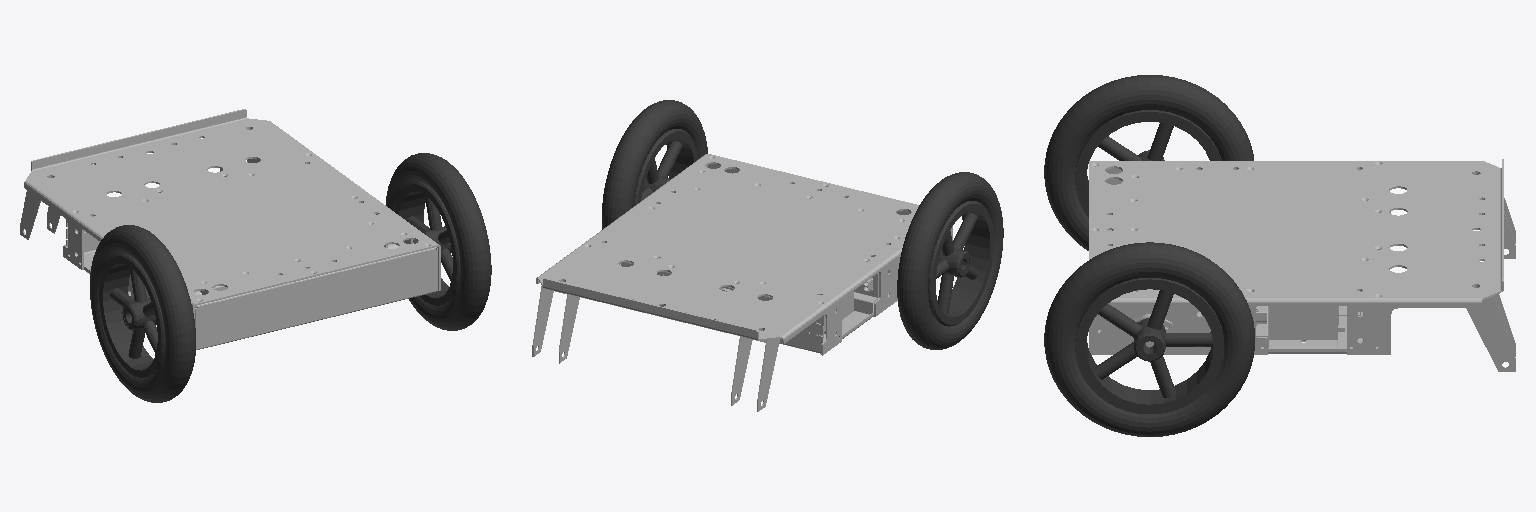
The robot description file, URDF, robot "dpr4_description":
<robot
  name="dpr4_description">
  <link
    name="base_link">
    <inertial>
      <origin
        xyz="0 0.23146 0.14798"
        rpy="0 0 0" />
      <mass
        value="12.0" />
      <inertia
        ixx="0.36685543"
        ixy="-0.00104218"
        ixz="-0.00036965"
        iyy="0.13334723"
        iyz="0.13386521"
        izz="0.35413958" />
    </inertial>
    <visual>
      <origin
        xyz="0 0 0"
        rpy="0 0 0" />
      <geometry>
        <mesh
          filename="package://dpr4_description/meshes/base_link.stl" />
      </geometry>
      <material
        name="">
        <color
          rgba="0.752941176470588 0.752941176470588 0.752941176470588 1" />
      </material>
    </visual>
    <collision>
      <origin
        xyz="0 0 0"
        rpy="0 0 0" />
      <geometry>
        <mesh
          filename="package://dpr4_description/meshes/base_link.stl" />
      </geometry>
    </collision>
  </link>
  <link
    name="AandrijfwielLinks">
    <inertial>
      <origin
        xyz="0 0 0"
        rpy="0 0 0" />
      <mass
        value="1.98850951394841" />
      <inertia
        ixx="0.0254040000000000"
        ixy="0.0000000000000000"
        ixz="0.0000000000000000"
        iyy="0.0130220000000000"
        iyz="0.0000000000000000"
        izz="0.0130220000000000" />
    </inertial>
    <visual>
      <origin
        xyz="0 0 0"
        rpy="0 0 0" />
      <geometry>
        <mesh
          filename="package://dpr4_description/meshes/Aandrijfwiel.stl" />
      </geometry>
      <material
        name="">
        <color
          rgba="0.294117647058824 0.294117647058824 0.294117647058824 1" />
      </material>
    </visual>
    <collision>
      <origin
        xyz="0 0 0"
        rpy="0 0 0" />
      <geometry>
        <mesh
          filename="package://dpr4_description/meshes/Aandrijfwiel.stl" />
      </geometry>
    </collision>
  </link>
  <joint
    name="AandrijfwielJointLinks"
    type="continuous">
    <origin
      xyz="-0.272 0.084 0.145"
      rpy="0 0 0" />
    <parent
      link="base_link" />
    <child
      link="AandrijfwielLinks" />
    <axis
      xyz="-1 0 0" />
  </joint>
  <link
    name="AandrijfwielRechts">
   <inertial>
      <origin
        xyz="0 0 0"
        rpy="0 0 0" />
      <mass
        value="1.98850951394841" />
      <inertia
        ixx="0.0254040000000000"
        ixy="0.0000000000000000"
        ixz="0.0000000000000000"
        iyy="0.0130220000000000"
        iyz="0.0000000000000000"
        izz="0.0130220000000000" />
    </inertial>
    <visual>
      <origin
        xyz="0 0 0"
        rpy="0 0 0" />
      <geometry>
        <mesh
          filename="package://dpr4_description/meshes/Aandrijfwiel.stl" />
      </geometry>
      <material
        name="">
        <color
          rgba="0.294117647058824 0.294117647058824 0.294117647058824 1" />
      </material>
    </visual>
    <collision>
      <origin
        xyz="0 0 0"
        rpy="0 0 0" />
      <geometry>
        <mesh
          filename="package://dpr4_description/meshes/Aandrijfwiel.stl" />
      </geometry>
    </collision>
  </link>
  <joint
    name="AandrijfwielJointRechts"
    type="continuous">
    <origin
      xyz="0.272 0.084 0.145"
      rpy="0 0 0" />
    <parent
      link="base_link" />
    <child
      link="AandrijfwielRechts" />
    <axis
      xyz="-1 0 0" />
  </joint>
  <link
    name="PassiefLinkLinks">
    <inertial>
      <origin
        xyz="0 0 0"
        rpy="0 0 0" />
      <mass
        value="0.027578120885064" />
      <inertia
        ixx="0.0000770000000000"
        ixy="0.0000000000000000"
        ixz="0.0000000000000000"
        iyy="0.0000750000000000"
        iyz="-0.0000250000000000"
        izz="0.0000260000000000" />
    </inertial>
    <visual>
      <origin
        xyz="0 0 0"
        rpy="0 0 0" />
      <geometry>
        <mesh
          filename="package://dpr4_description/meshes/PassiefLink.stl" />
      </geometry>
      <material
        name="">
        <color
          rgba="0.752941176470588 0.752941176470588 0.752941176470588 1" />
      </material>
    </visual>
    <collision>
      <origin
        xyz="0 0 0"
        rpy="0 0 0" />
      <geometry>
        <mesh
          filename="package://dpr4_description/meshes/PassiefLink.stl" />
      </geometry>
    </collision>
  </link>
  <joint
    name="PassiefJointLinks"
    type="continuous">
    <origin
      xyz="-0.183 0.532 0.182"
      rpy="0 0 0" />
    <parent
      link="base_link" />
    <child
      link="PassiefLinkLinks" />
    <axis
      xyz="0 0 1" />
  </joint>
  <link
    name="ZwenkwielLinks">
    <inertial>
      <origin
        xyz="0 0 0"
        rpy="0 0 0" />
      <mass
        value="0.2926460297435" />
      <inertia
        ixx="0.0009700000000000"
        ixy="0.0000000000000000"
        ixz="0.0000000000000000"
        iyy="0.0005000000000000"
        iyz="0.0000000000000000"
        izz="0.0005000000000000" />
    </inertial>
    <visual>
      <origin
        xyz="0 0 0"
        rpy="0 0 0" />
      <geometry>
        <mesh
          filename="package://dpr4_description/meshes/Zwenkwiel.stl" />
      </geometry>
      <material
        name="">
        <color
          rgba="0.294117647058824 0.294117647058824 0.294117647058824 1" />
      </material>
    </visual>
    <collision>
      <origin
        xyz="0 0 0"
        rpy="0 0 0" />
      <geometry>
        <mesh
          filename="package://dpr4_description/meshes/Zwenkwiel.stl" />
      </geometry>
    </collision>
  </link>
  <joint
    name="ZwenkwielJointLinks"
    type="continuous">
    <origin
      xyz="0 0.04025 -0.105"
      rpy="0 0 0" />
    <parent
      link="PassiefLinkLinks" />
    <child
      link="ZwenkwielLinks" />
    <axis
      xyz="-1 0 0" />
  </joint>
  <link
    name="PassiefLinkRechts">
    <inertial>
      <origin
        xyz="0 0 0"
        rpy="0 0 0" />
      <mass
        value="0.0275781208850642" />
      <inertia
        ixx="0.0000770000000000"
        ixy="0.0000000000000000"
        ixz="0.0000000000000000"
        iyy="0.0000750000000000"
        iyz="-0.0000250000000000"
        izz="0.0000260000000000" />
    </inertial>
    <visual>
      <origin
        xyz="0 0 0"
        rpy="0 0 0" />
      <geometry>
        <mesh
          filename="package://dpr4_description/meshes/PassiefLink.stl" />
      </geometry>
      <material
        name="">
        <color
          rgba="0.752941176470588 0.752941176470588 0.752941176470588 1" />
      </material>
    </visual>
    <collision>
      <origin
        xyz="0 0 0"
        rpy="0 0 0" />
      <geometry>
        <mesh
          filename="package://dpr4_description/meshes/PassiefLink.stl" />
      </geometry>
    </collision>
  </link>
  <joint
    name="PassiefJointRechts"
    type="continuous">
    <origin
      xyz="0.183 0.532 0.182"
      rpy="0 0 0" />
    <parent
      link="base_link" />
    <child
      link="PassiefLinkRechts" />
    <axis
      xyz="0 0 1" />
  </joint>
  <link
    name="ZwenkwielRechts">
    <inertial>
      <origin
        xyz="0 0 0"
        rpy="0 0 0" />
      <mass
        value="0.29264656535805" />
      <inertia
        ixx="0.0009700000000000"
        ixy="0.0000000000000000"
        ixz="0.0000000000000000"
        iyy="0.0005000000000000"
        iyz="0.0000000000000000"
        izz="0.0005000000000000" />
    </inertial>
    <visual>
      <origin
        xyz="0 0 0"
        rpy="0 0 0" />
      <geometry>
        <mesh
          filename="package://dpr4_description/meshes/Zwenkwiel.stl" />
      </geometry>
      <material
        name="">
        <color
          rgba="0.294117647058824 0.294117647058824 0.294117647058824 1" />
      </material>
    </visual>
    <collision>
      <origin
        xyz="0 0 0"
        rpy="0 0 0" />
      <geometry>
        <mesh
          filename="package://dpr4_description/meshes/Zwenkwiel.stl" />
      </geometry>
    </collision>
  </link>
  <joint
    name="ZwenkwielJointRechts"
    type="continuous">
    <origin
      xyz="0 0.04025 -0.105"
      rpy="0 0 0" />
    <parent
      link="PassiefLinkRechts" />
    <child
      link="ZwenkwielRechts" />
    <axis
      xyz="-1 0 0" />
  </joint>
</robot>

--- Facts derived from the render (not from the file) ---
3 views of the same robot in one strip: view 1: azimuth 30°, elevation 25°; view 2: azimuth 150°, elevation 25°; view 3: azimuth 270°, elevation 25° (orthographic).
Robot: dpr4_description — 7 links, 6 joints (6 continuous); root link base_link; default pose: every joint at zero.
Links seen in each view (by area): view 1: base_link, AandrijfwielLinks, AandrijfwielRechts, PassiefLinkLinks; view 2: base_link, AandrijfwielLinks, AandrijfwielRechts, PassiefLinkLinks, PassiefLinkRechts; view 3: base_link, AandrijfwielRechts, AandrijfwielLinks, PassiefLinkRechts, PassiefLinkLinks.
Boxes of the visible links, x1,y1,x2,y2 form: base_link: (24,109,440,349); AandrijfwielLinks: (90,225,195,402); AandrijfwielRechts: (386,153,491,330); PassiefLinkLinks: (20,177,60,239); base_link: (536,154,952,355); AandrijfwielLinks: (897,172,1003,349); AandrijfwielRechts: (602,100,707,229); PassiefLinkLinks: (731,330,779,411); PassiefLinkRechts: (532,281,579,363); base_link: (1089,159,1503,354); AandrijfwielRechts: (1044,242,1254,436); AandrijfwielLinks: (1044,75,1253,250); PassiefLinkRechts: (1466,286,1515,371); PassiefLinkLinks: (1473,173,1515,258).
Size in the robot's own frame: 0.598 by 0.6463 by 0.2895 metres.
5 mesh visuals loaded from 4 distinct referenced files (3 binary STL); not drawn: 2 (reference not matched to a file when rendering).